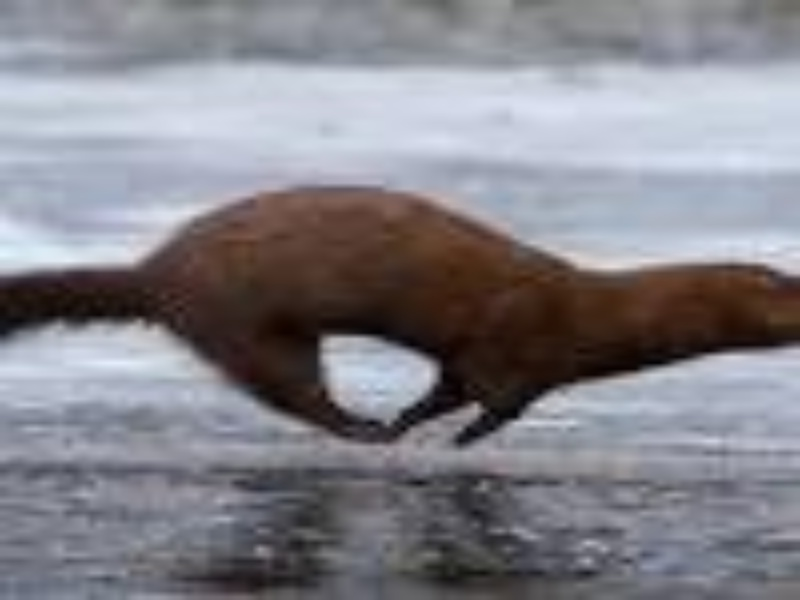minkish: (1, 182, 800, 451)
